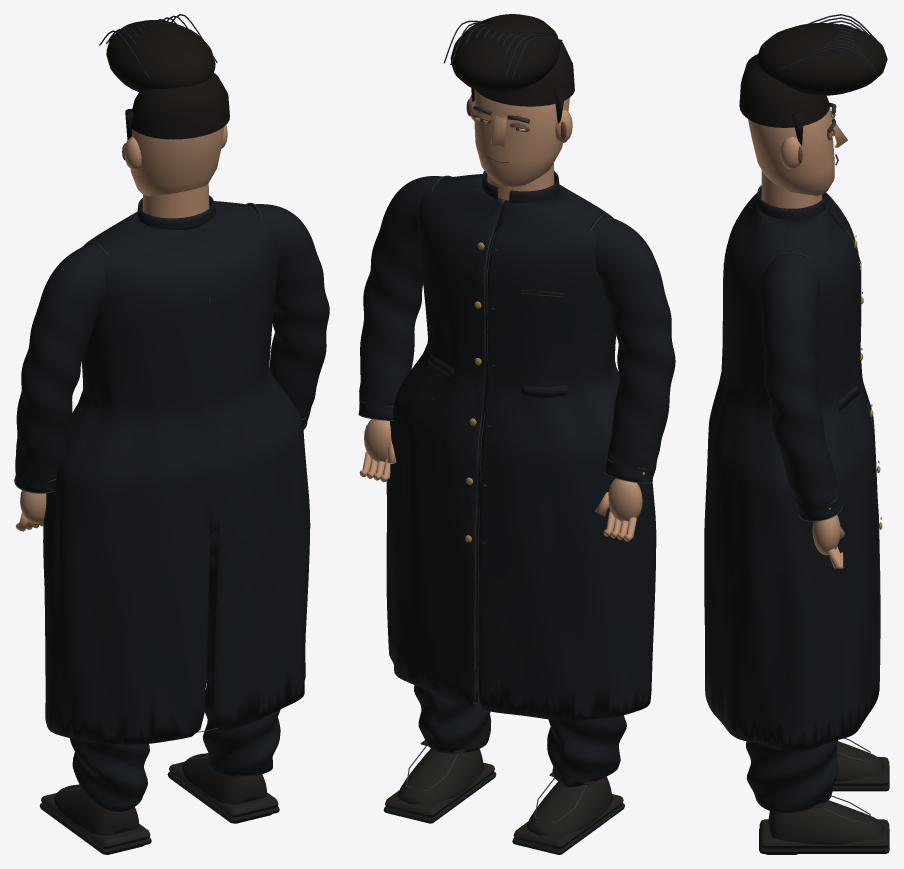
3 renders of one model, left to right at view 1: azimuth 30°, elevation 25°; view 2: azimuth 150°, elevation 25°; view 3: azimuth 270°, elevation 25°, orthographic.
Parts seen in each view (by area): view 1: YL_V2_Tailored coat shell, YL_V2_Set in shaped sleeve, YL_V2_Sewn high waist bontan, YL_V2_Set in shaped sleeve.001, YL_Pompadour_ClothingV2, YL_SlickHair_ClothingV2, YL_Face_ClothingV2, YL_V2_Shaped loafer leather.001, YL_V2_Shaped loafer leather, YL_Neck_ClothingV2, YL_V2_Loafer welt.001, YL_V2_Loafer welt (+4 smaller); view 2: YL_V2_Tailored coat shell, YL_V2_Set in shaped sleeve, YL_V2_Set in shaped sleeve.001, YL_V2_Sewn high waist bontan, YL_Pompadour_ClothingV2, YL_Face_ClothingV2, YL_V2_Shaped loafer leather, YL_V2_Shaped loafer leather.001, YL_SlickHair_ClothingV2, YL_V2_Relaxed palm, YL_V2_Loafer welt, YL_V2_Loafer welt.001 (+6 smaller); view 3: YL_V2_Tailored coat shell, YL_V2_Set in shaped sleeve.001, YL_Pompadour_ClothingV2, YL_V2_Sewn high waist bontan, YL_Face_ClothingV2, YL_SlickHair_ClothingV2, YL_V2_Shaped loafer leather.001, YL_V2_Loafer welt.001, YL_V2_Shaped loafer leather, YL_Neck_ClothingV2, YL_V2_Low standing collar, YL_V2_Relaxed palm.001 (+4 smaller).
Part boxes in pixels (x1,y1,x2,y2): YL_V2_Tailored coat shell: (43,201,310,744); YL_V2_Set in shaped sleeve: (15,241,108,492); YL_V2_Sewn high waist bontan: (70,530,280,811); YL_V2_Set in shaped sleeve.001: (246,203,329,428); YL_Pompadour_ClothingV2: (106,20,215,91); YL_SlickHair_ClothingV2: (130,73,229,139); YL_Face_ClothingV2: (130,127,224,196); YL_V2_Shaped loafer leather.001: (182,753,266,804); YL_V2_Shaped loafer leather: (54,784,139,835); YL_Neck_ClothingV2: (142,183,209,218); YL_V2_Loafer welt.001: (169,761,278,817); YL_V2_Loafer welt: (41,793,150,848); YL_V2_Tailored coat shell: (386,174,656,720); YL_V2_Set in shaped sleeve: (591,213,675,482); YL_V2_Set in shaped sleeve.001: (359,176,451,420); YL_V2_Sewn high waist bontan: (414,669,626,786); YL_Pompadour_ClothingV2: (450,14,560,92); YL_Face_ClothingV2: (474,89,569,186); YL_V2_Shaped loafer leather: (526,776,612,836); YL_V2_Shaped loafer leather.001: (398,749,483,804); YL_SlickHair_ClothingV2: (476,40,574,106); YL_V2_Relaxed palm: (608,478,642,521); YL_V2_Loafer welt: (513,794,623,849); YL_V2_Loafer welt.001: (385,762,494,817); YL_V2_Tailored coat shell: (704,192,879,750); YL_V2_Set in shaped sleeve.001: (761,251,841,520); YL_Pompadour_ClothingV2: (756,23,887,95); YL_V2_Sewn high waist bontan: (746,740,838,813); YL_Face_ClothingV2: (748,106,834,195); YL_SlickHair_ClothingV2: (739,54,829,127); YL_V2_Shaped loafer leather.001: (768,800,884,844); YL_V2_Loafer welt.001: (759,819,889,848); YL_V2_Shaped loafer leather: (835,741,884,781); YL_Neck_ClothingV2: (761,170,822,208); YL_V2_Low standing collar: (756,185,826,219); YL_V2_Relaxed palm.001: (812,515,840,555).
Size of the model in its own units: 0.7204 by 1.78 by 0.382.
